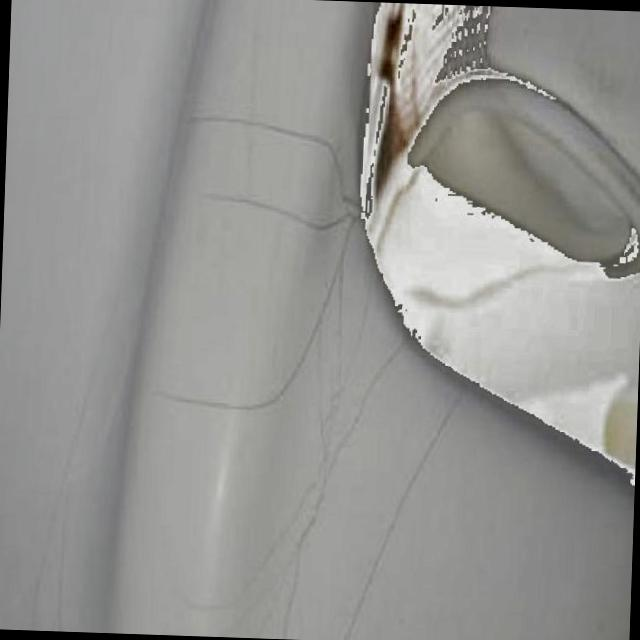crack: (221, 112, 374, 170), (196, 190, 324, 233), (168, 378, 261, 427)
